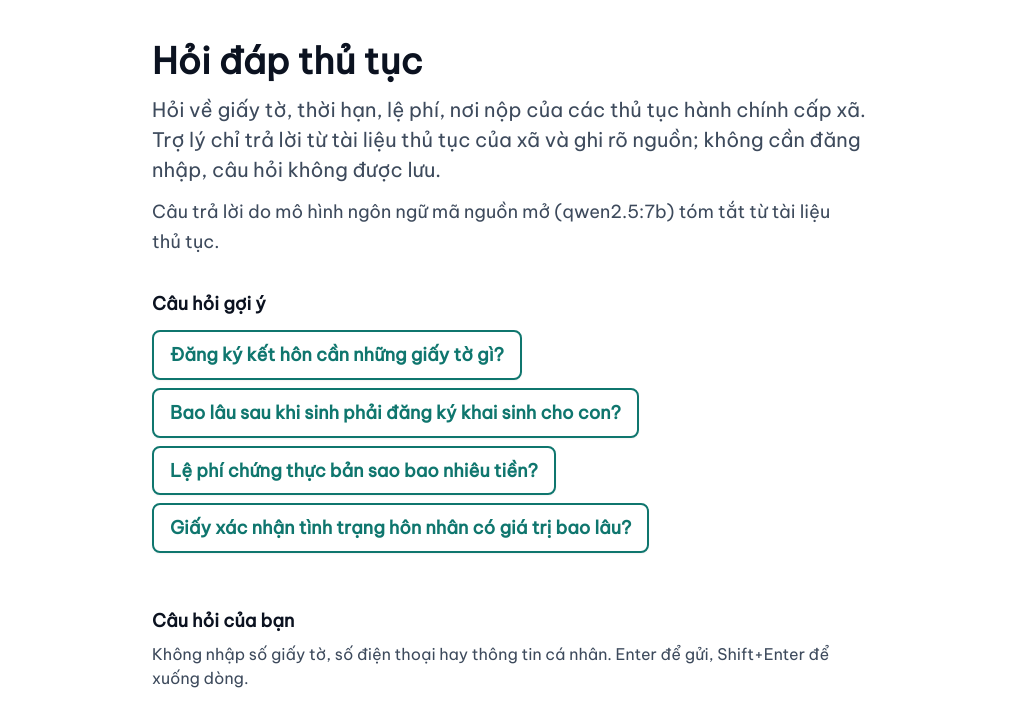
Test: trang hỏi đáp › hỏi bằng câu gợi ý, hiện câu trả lời với trích dẫn nối tới nguồn
Expected: the text "qwen2.5:7b" is shown, [152,200,830,253]
Click the button "Đăng ký kết hôn cần những giấy tờ gì?" at (337, 355), box [152,330,522,380]
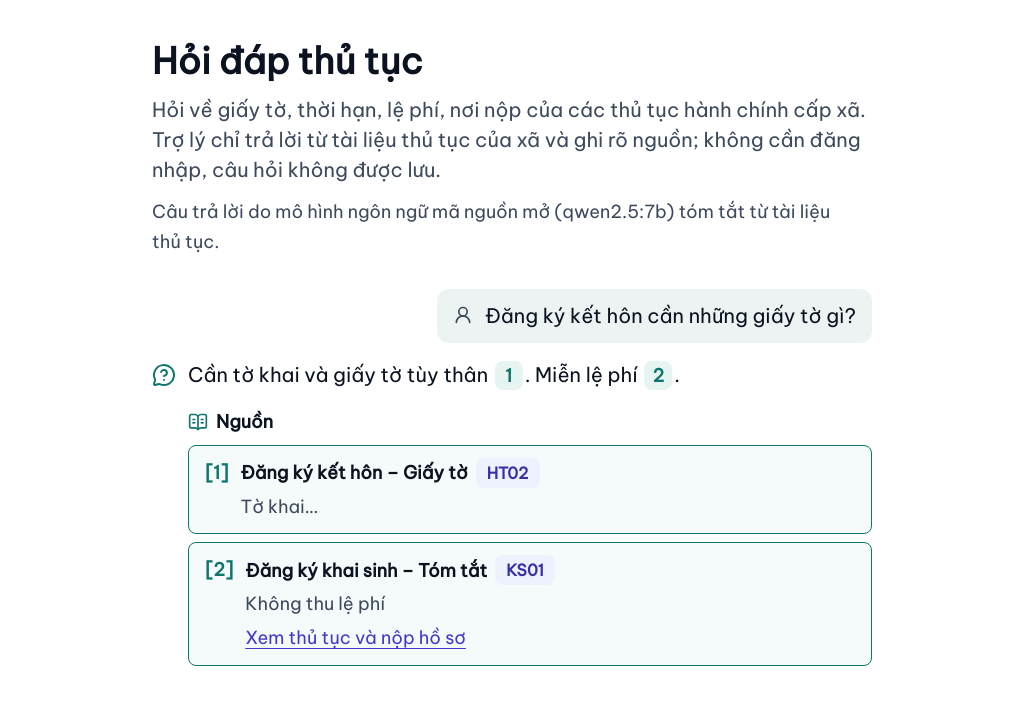
Now the number of list items is 2, box [188,445,872,534]; [188,542,872,666]
